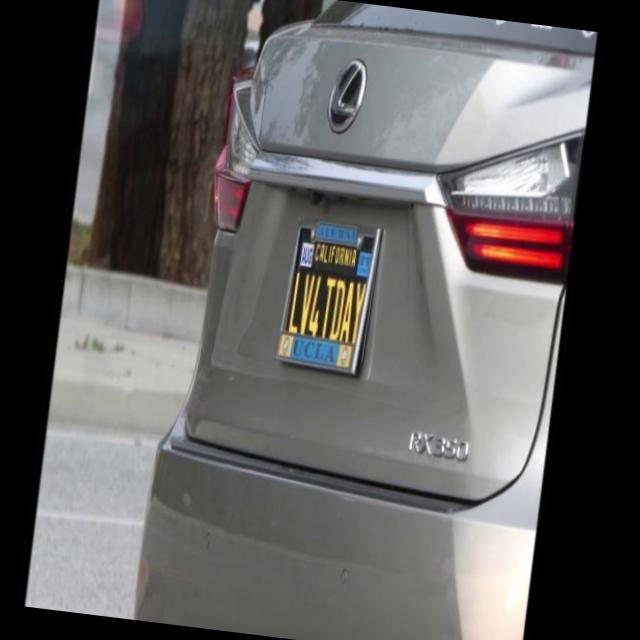LicensePlate: (265, 200, 395, 398)
